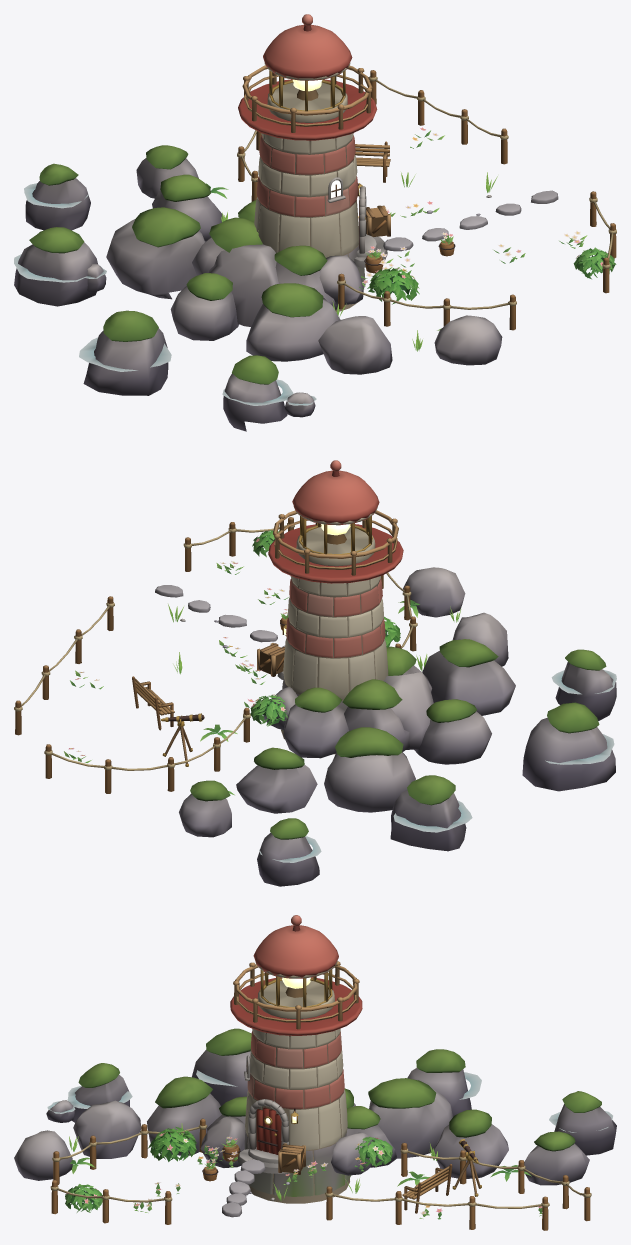
Rendered from poi-lighthouse-0.glb.
3 views of the same model, one above another, from view 1: azimuth 30°, elevation 25°; view 2: azimuth 150°, elevation 25°; view 3: azimuth 270°, elevation 25° (orthographic). The views are drawn at different scales.
Visible parts, largest first — view 1: body, leaf; view 2: body, leaf; view 3: body, leaf.
Part boxes in pixels (left/top/right/bottom): body: left=14, top=14, right=616, bottom=431; leaf: left=206, top=127, right=616, bottom=351; body: left=14, top=460, right=616, bottom=886; leaf: left=64, top=530, right=461, bottom=795; body: left=14, top=915, right=616, bottom=1230; leaf: left=65, top=1123, right=542, bottom=1219.
Size of the model in its own units: 14.31 by 8.53 by 16.46.
